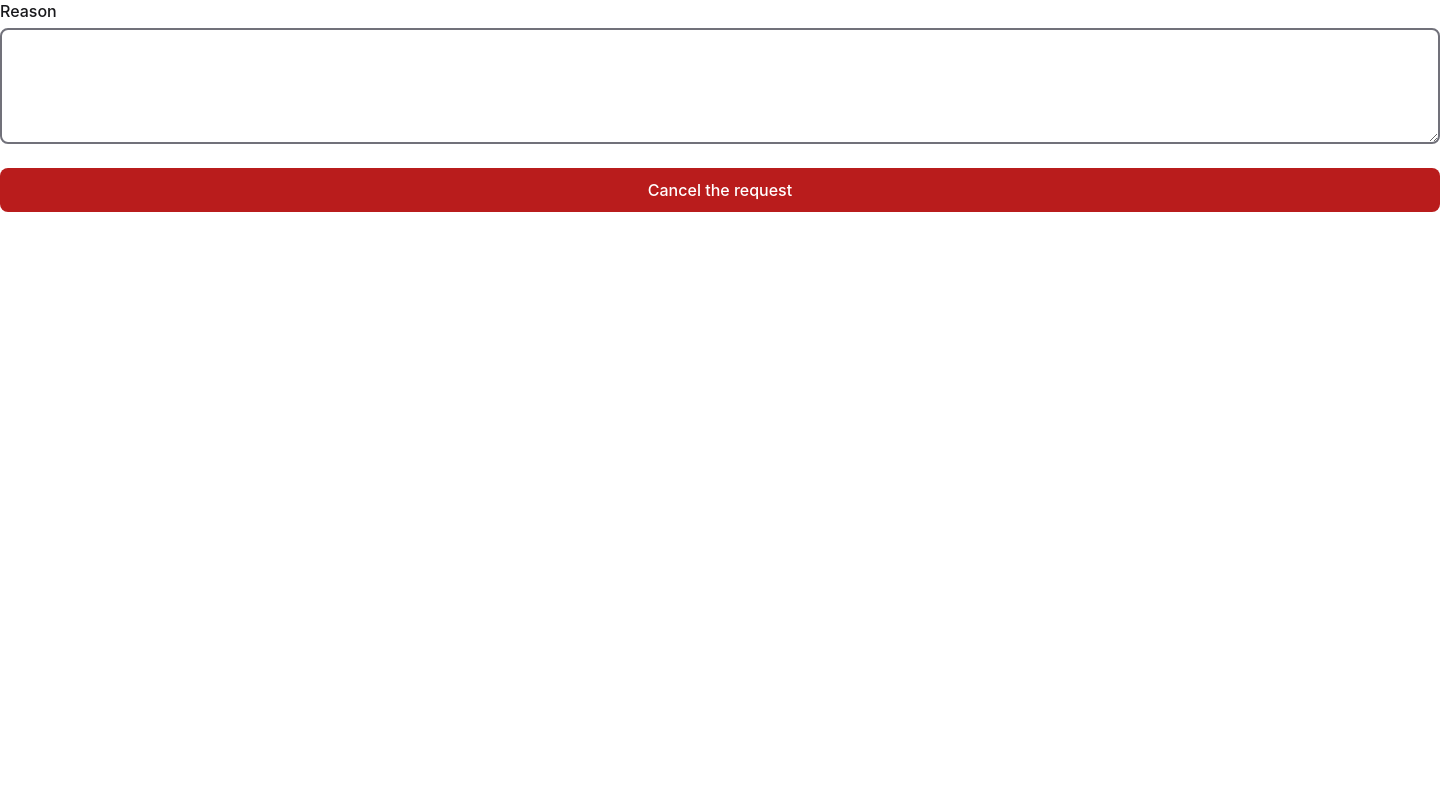
Test: ConfirmDialog › closes without acting on its cancel button and on Escape
Click the button "Cancel the request" at (720, 190), box x1=0 y1=168 x2=1439 y2=212
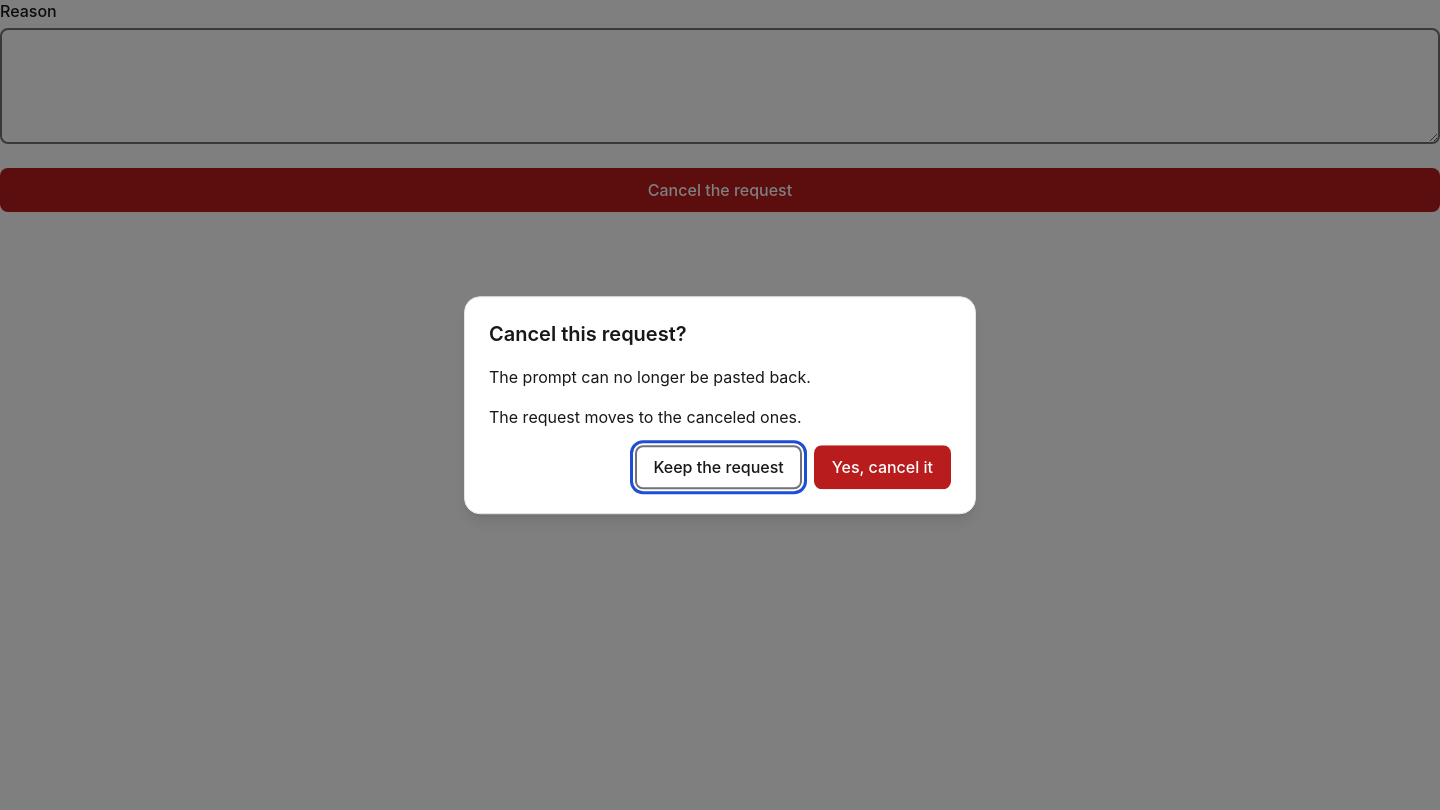
Click the button "Keep the request" at (719, 467), box x1=636 y1=445 x2=802 y2=489
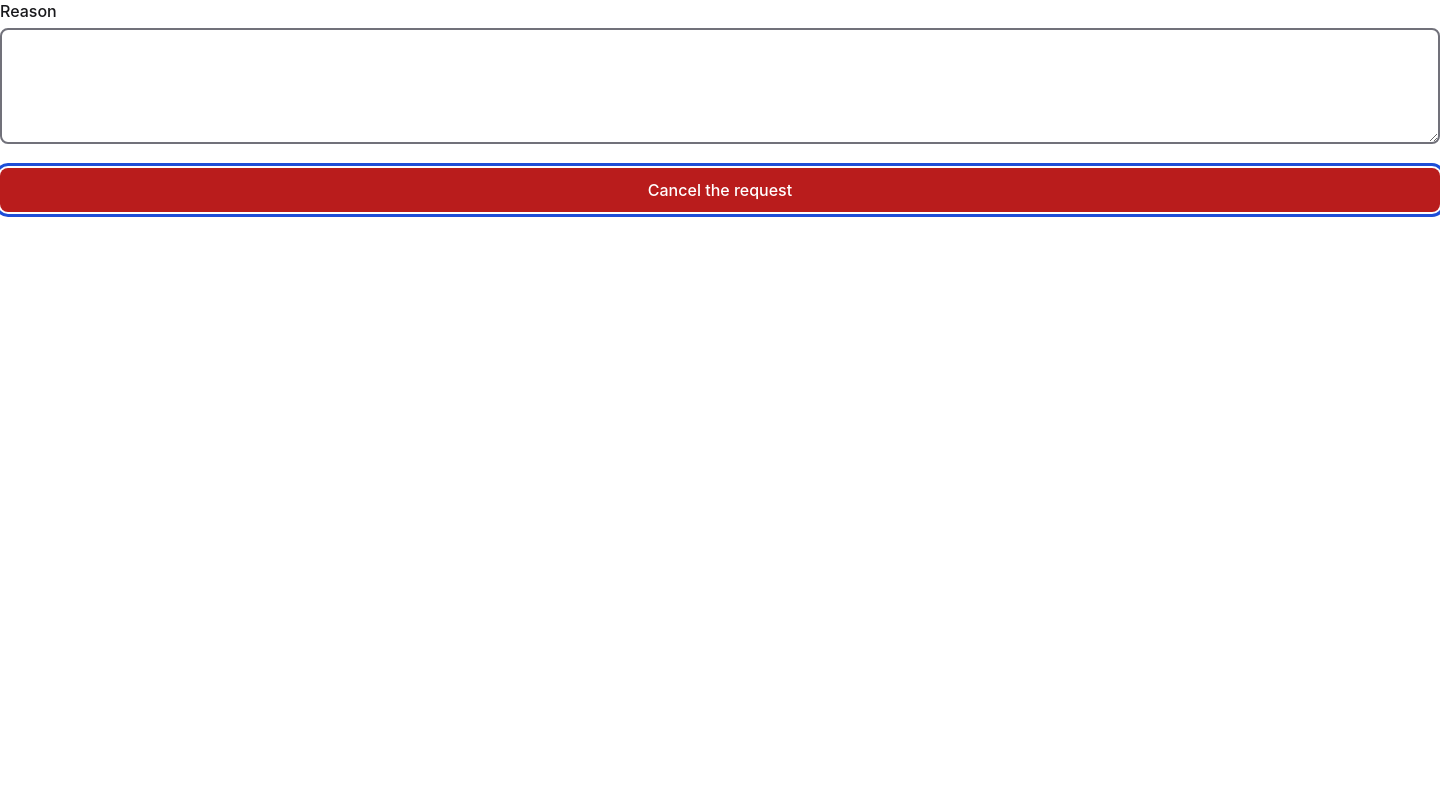
expect the dialog is gone: met
Click the button "Cancel the request" at (720, 190), box x1=0 y1=168 x2=1439 y2=212
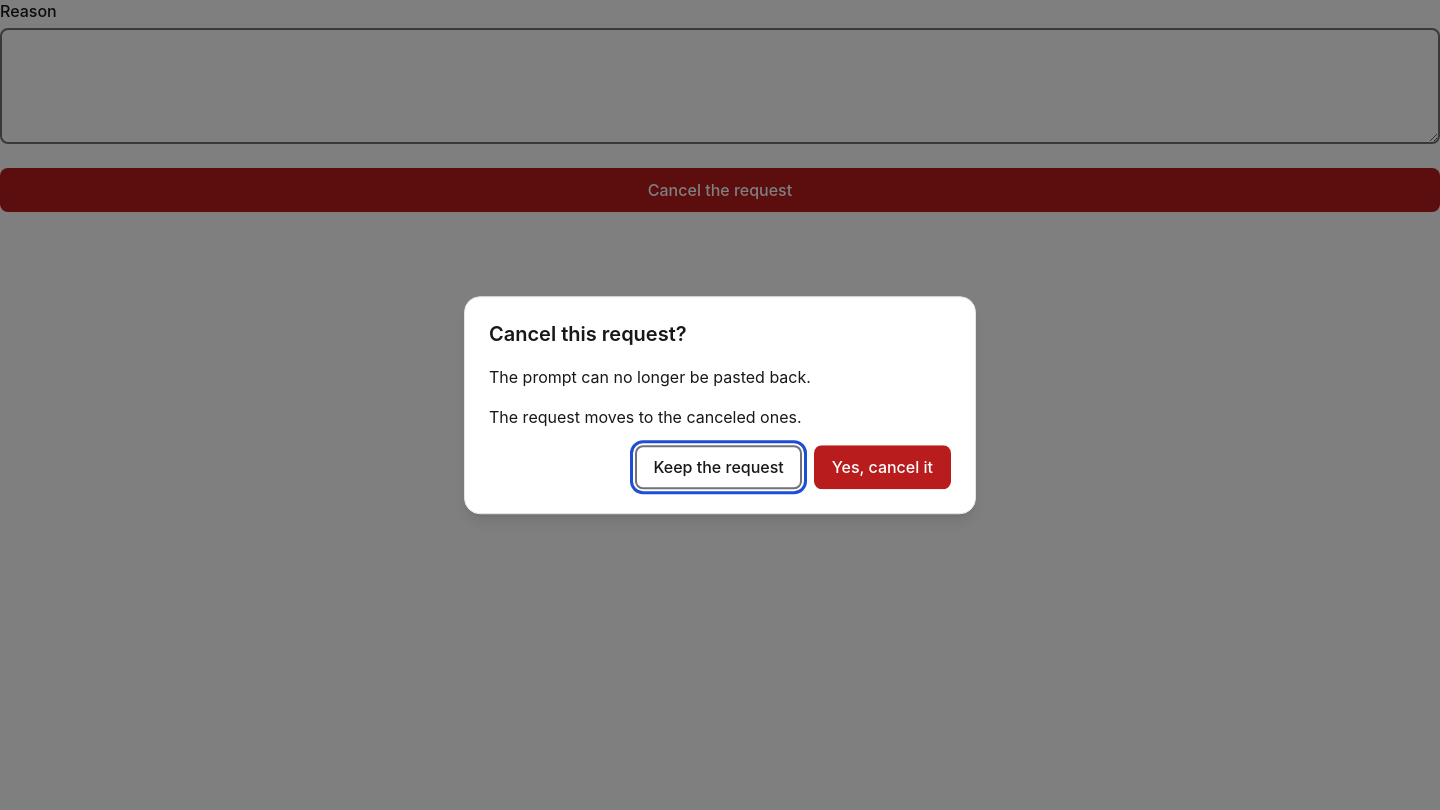
expect the dialog is shown: met, box x1=464 y1=296 x2=976 y2=514
Press Escape
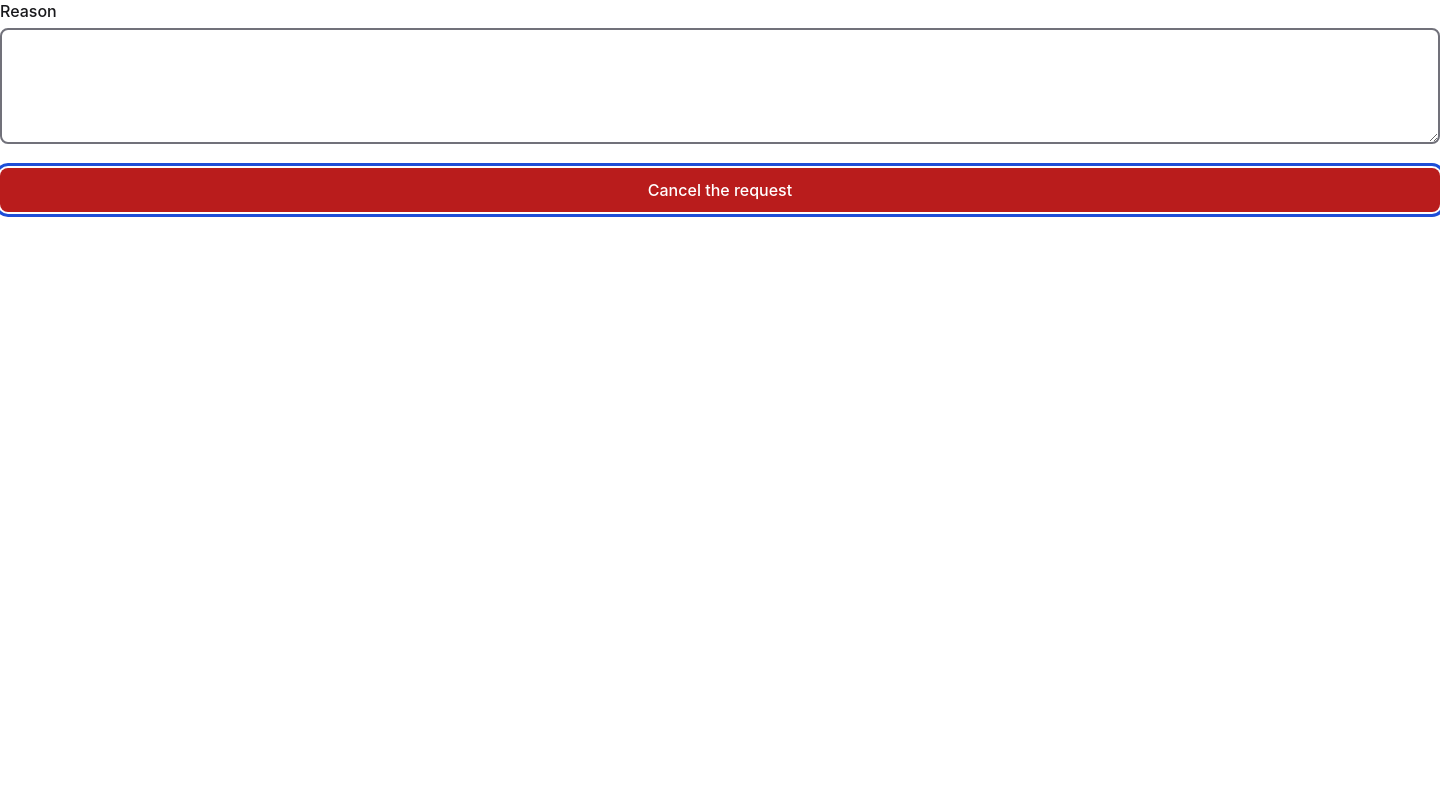
expect the dialog is gone: met
